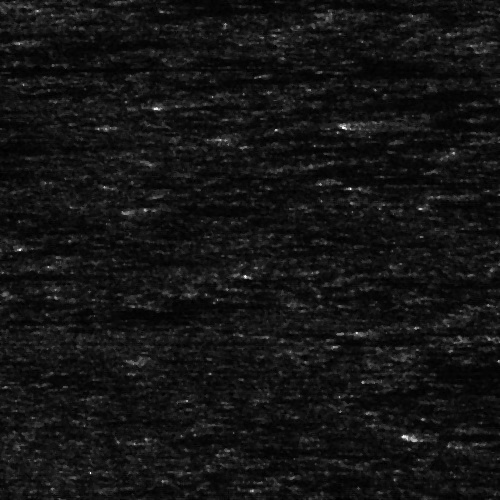object: (324, 115, 439, 132), (426, 332, 500, 343), (128, 201, 191, 212), (116, 296, 169, 309), (388, 430, 461, 439), (448, 135, 500, 144), (421, 190, 494, 195), (334, 329, 397, 334)
shadow: (0, 63, 379, 70), (382, 115, 500, 132), (143, 296, 285, 309), (160, 201, 304, 212), (0, 352, 86, 367), (0, 267, 140, 276), (0, 26, 68, 39), (425, 430, 500, 439), (366, 329, 440, 334), (0, 270, 35, 277), (457, 190, 500, 195), (0, 145, 127, 146)
